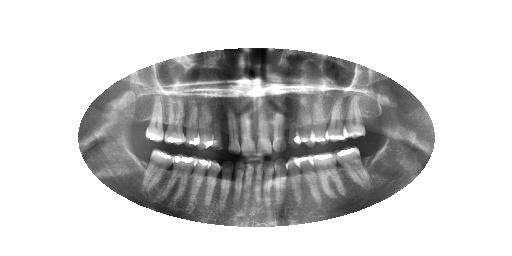Fillings: (162, 154, 197, 197), (143, 149, 174, 190), (166, 96, 186, 145), (145, 95, 164, 143), (191, 157, 210, 202), (185, 104, 200, 147)
